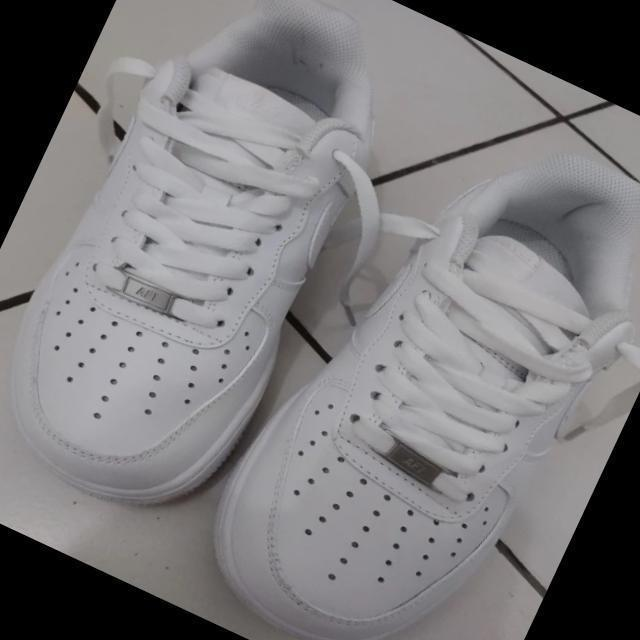nike original air force: (182, 76, 640, 640), (0, 0, 434, 544)
